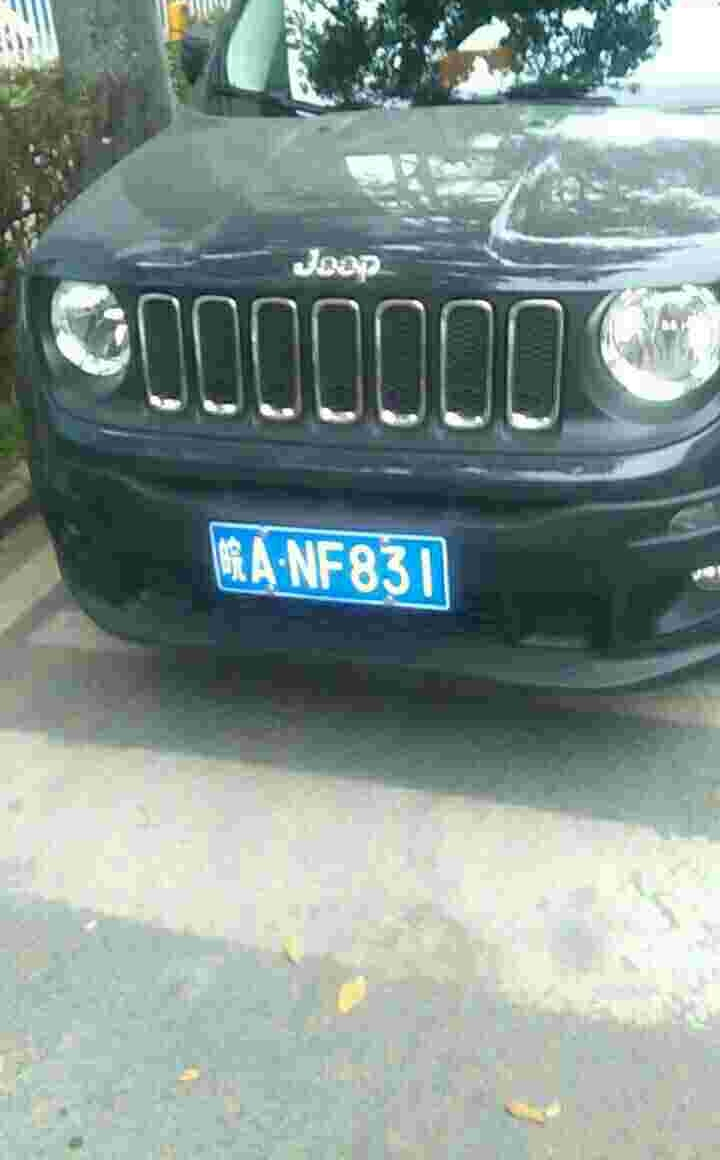plate: (207, 518, 455, 613)
